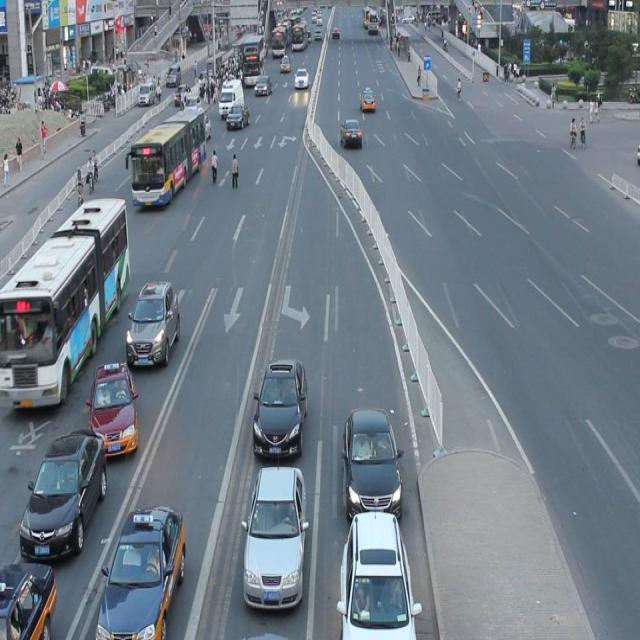car: (95, 499, 186, 640), (20, 425, 107, 560), (338, 506, 419, 640), (242, 460, 306, 606), (342, 401, 401, 518), (250, 353, 308, 458), (88, 357, 140, 456), (124, 278, 180, 368), (1, 557, 58, 640)
van: (1, 198, 127, 406), (132, 108, 206, 208)
